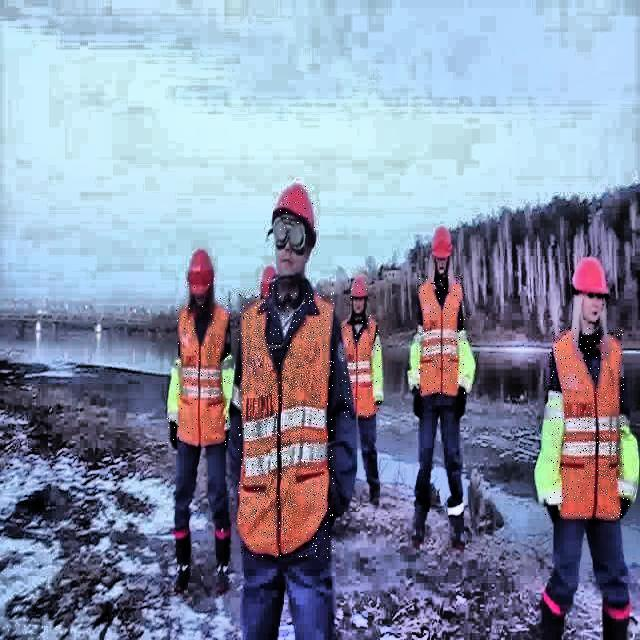safety_helmet: (274, 186, 316, 234), (570, 254, 608, 296), (188, 249, 214, 297), (432, 228, 452, 258), (260, 267, 276, 300), (347, 279, 369, 299)
safety_jacket: (238, 292, 334, 558), (550, 328, 624, 520), (176, 298, 230, 445), (419, 276, 465, 394), (340, 316, 380, 418)
